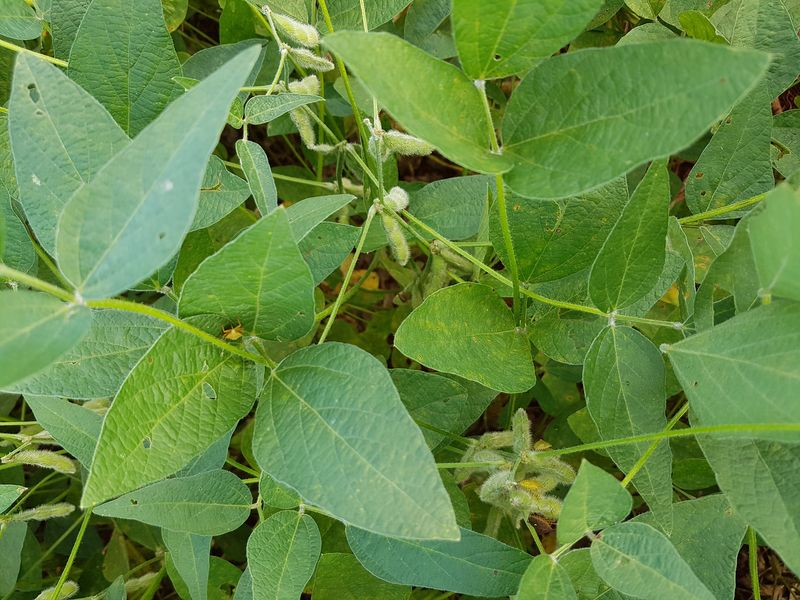Euschistus_heros_adulto: (523, 508, 564, 543)
Euschistus_heros_ninfa: (216, 315, 248, 347), (530, 436, 555, 455)
